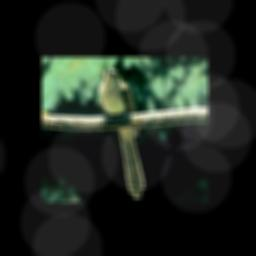Cuckoo: (98, 69, 145, 199)
